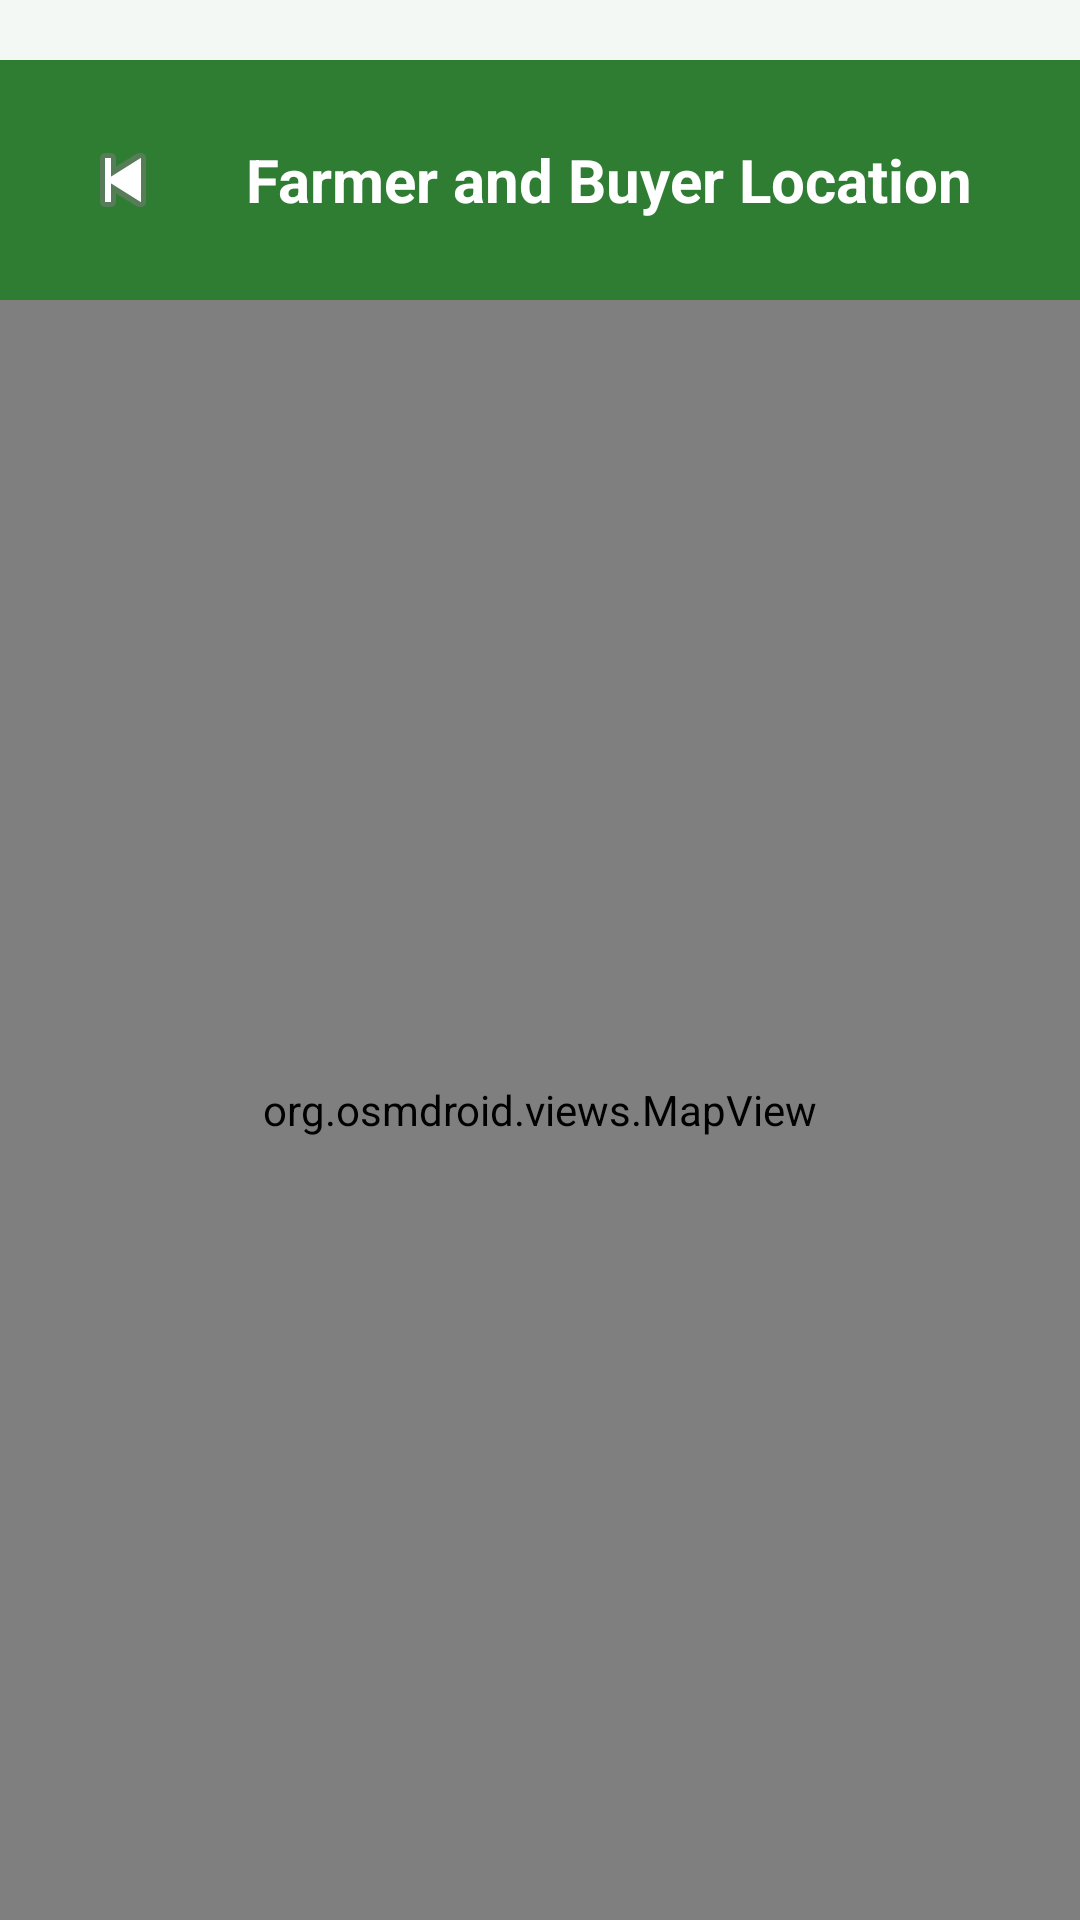

Icons on this 1080 x 1920 Android screen, each with the point to tap as point (x, y):
Back: point (123, 180)
